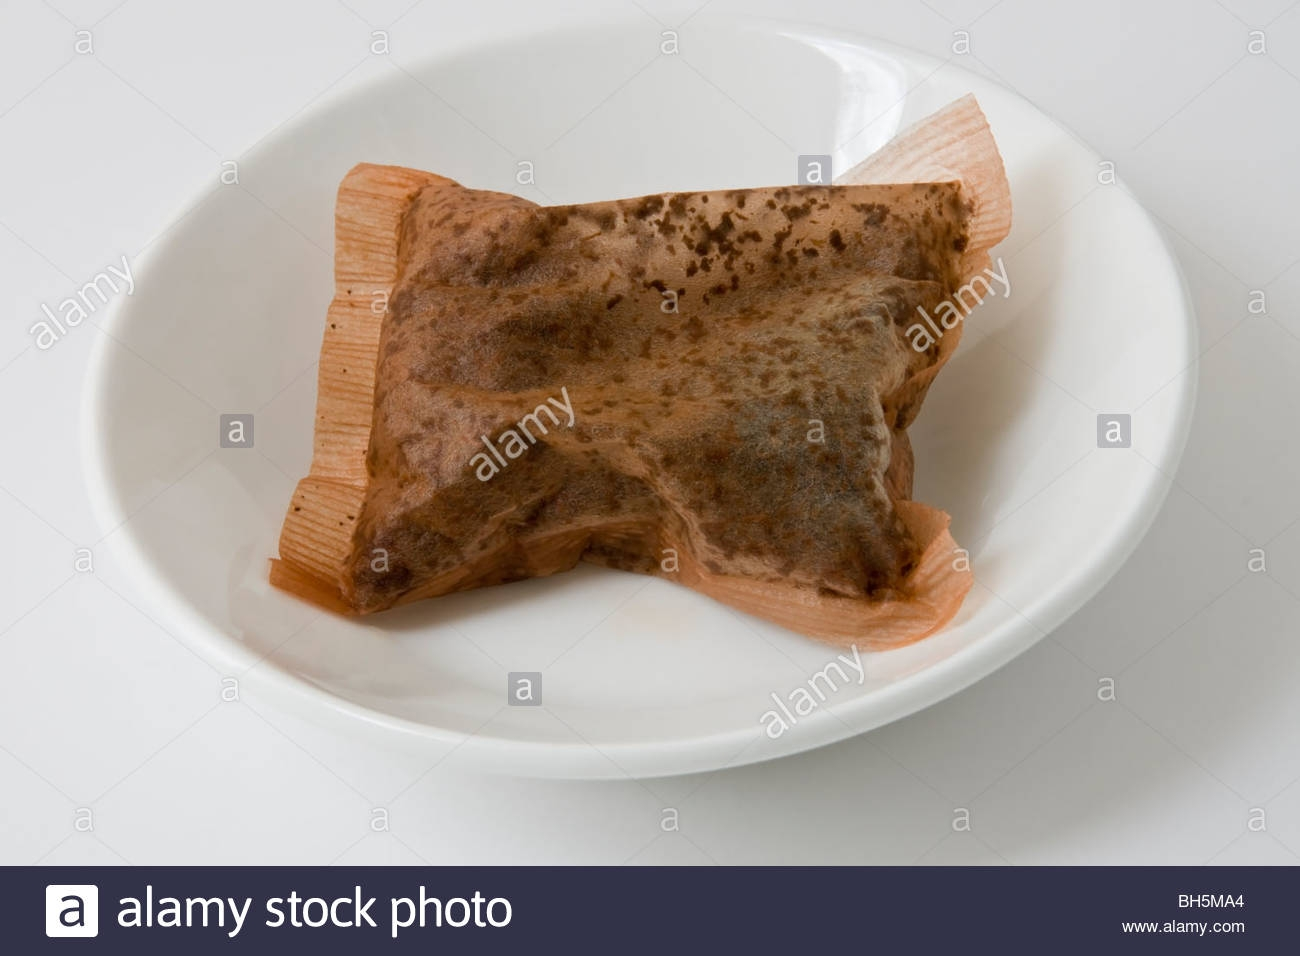kitchen_waste: (265, 128, 999, 647)
